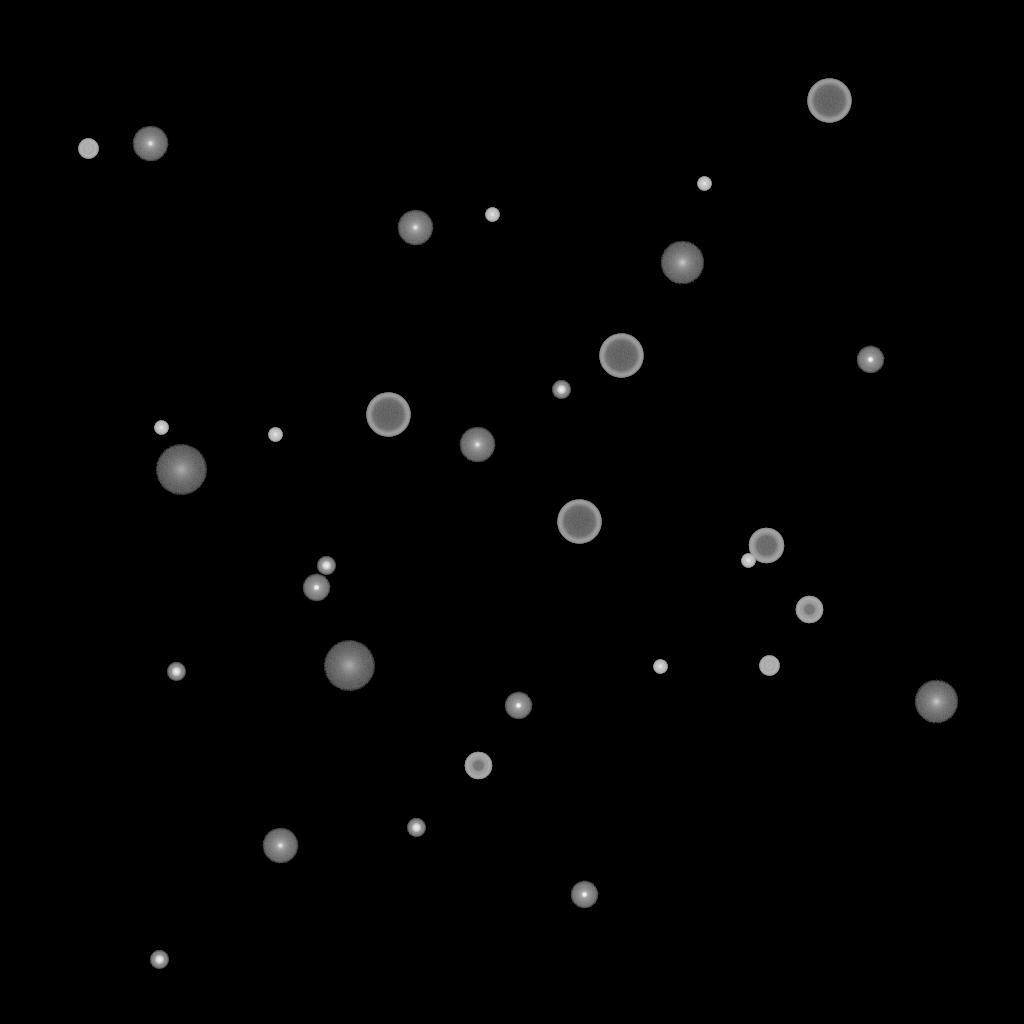depth:-10: (856, 346, 884, 374), (504, 692, 532, 720), (570, 881, 598, 909), (302, 574, 330, 602)
depth:-20: (552, 381, 570, 399), (167, 663, 185, 681), (150, 951, 168, 969), (317, 557, 335, 575), (407, 819, 425, 837)
depth:-30: (268, 428, 282, 442), (741, 554, 755, 568), (697, 177, 711, 191), (485, 208, 499, 222), (653, 660, 667, 674), (154, 421, 168, 435)
depth:-40: (78, 139, 98, 159), (759, 656, 779, 676)
depth:-50: (464, 752, 492, 780), (795, 596, 823, 624)
depth:-60: (748, 528, 784, 564)
depth:-70: (599, 334, 643, 378), (807, 79, 851, 123), (366, 393, 410, 437), (557, 500, 601, 544)
depth:0: (459, 427, 495, 463), (397, 210, 433, 246), (262, 828, 298, 864), (132, 126, 168, 162)
depth:10: (914, 680, 958, 724), (660, 241, 704, 285)
depth:20: (155, 445, 207, 495), (323, 641, 375, 691)
